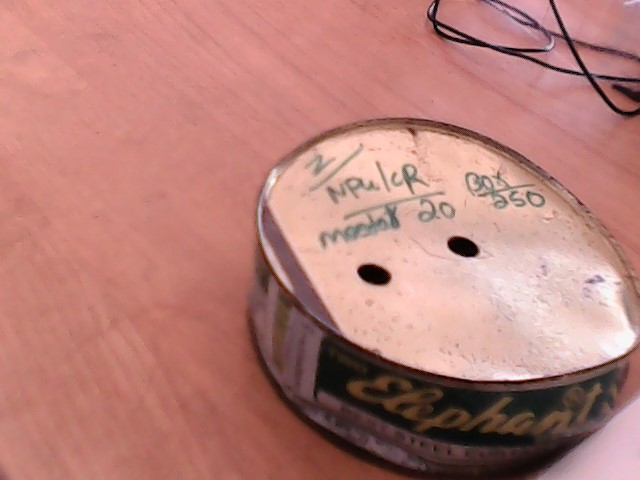Metal: (243, 115, 640, 480)
